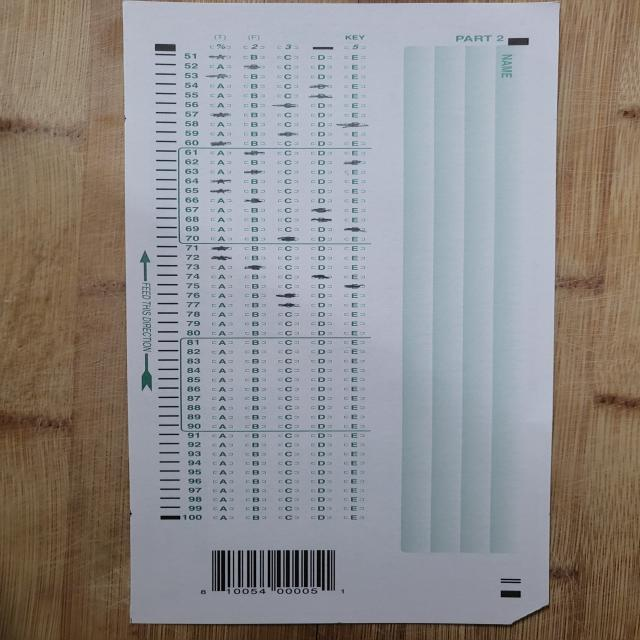scantron_back: (124, 1, 561, 625)
